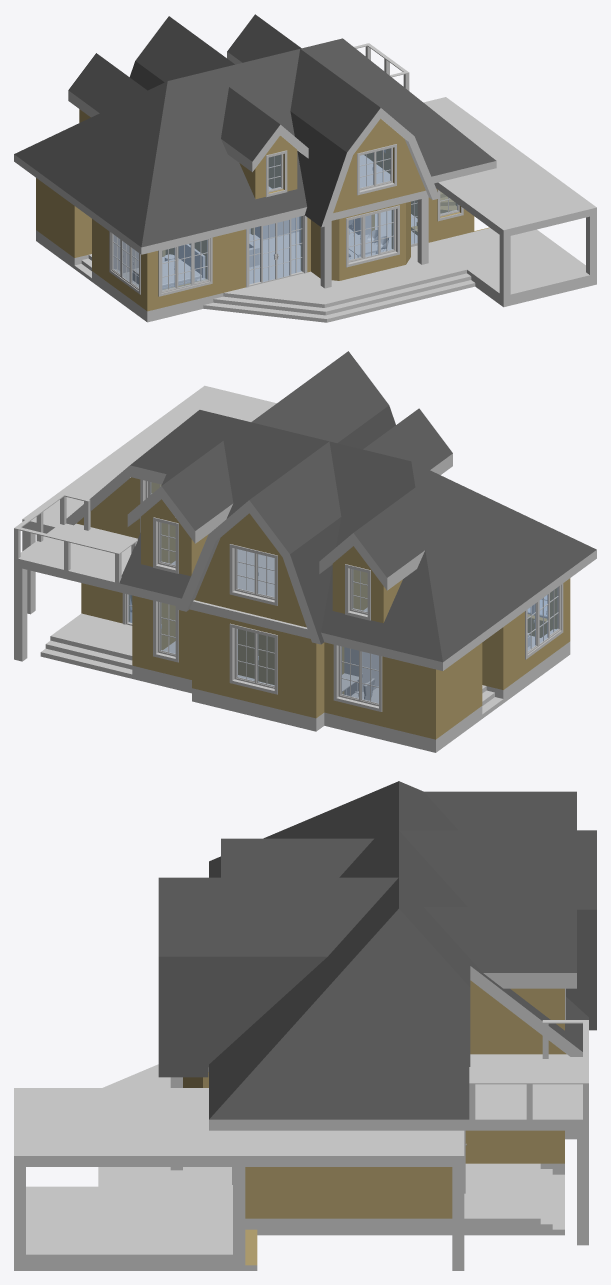
Rendered from house.fbx.
3 renders of one model, top to bottom at view 1: azimuth 30°, elevation 25°; view 2: azimuth 150°, elevation 25°; view 3: azimuth 270°, elevation 25°, orthographic. The views are drawn at different scales.
Parts seen in each view (by area): view 1: 3 011, 1 011, Object001, 0 011, 4 011, 1 012; view 2: 3 011, 0 011, 1 011, Object001, 4 011; view 3: 3 011, Object001, 1 011, 0 011.
Part boxes in pixels (x1,y1,x2,y2): 3 011: (14,14,496,247); 1 011: (14,43,596,322); Object001: (75,97,596,318); 0 011: (36,109,489,311); 4 011: (113,148,456,290); 1 012: (255,216,389,257); 3 011: (119,351,596,662); 0 011: (76,477,570,739); 1 011: (14,453,596,752); Object001: (18,385,555,714); 4 011: (128,482,558,703); 3 011: (158,781,596,1119); Object001: (14,1054,582,1254); 1 011: (14,966,588,1270); 0 011: (183,980,566,1265).
Size of the model in its own units: 16700 by 7450 by 14500.
